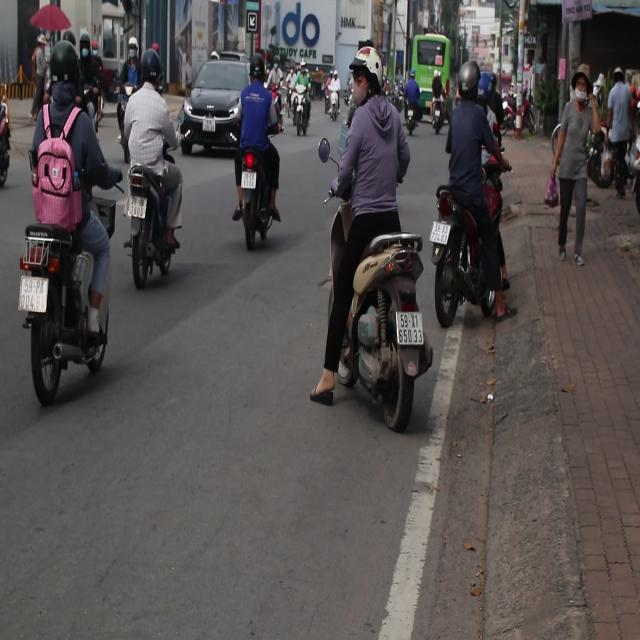bus: (404, 22, 446, 116)
car: (176, 59, 255, 159), (214, 52, 250, 80)
motorbike: (321, 194, 434, 440), (18, 224, 114, 404), (432, 195, 521, 351), (122, 157, 181, 290), (233, 150, 284, 254), (292, 82, 318, 146), (78, 85, 104, 147), (428, 76, 448, 136), (116, 73, 133, 138), (404, 76, 423, 133), (322, 80, 340, 119), (269, 78, 285, 118)
